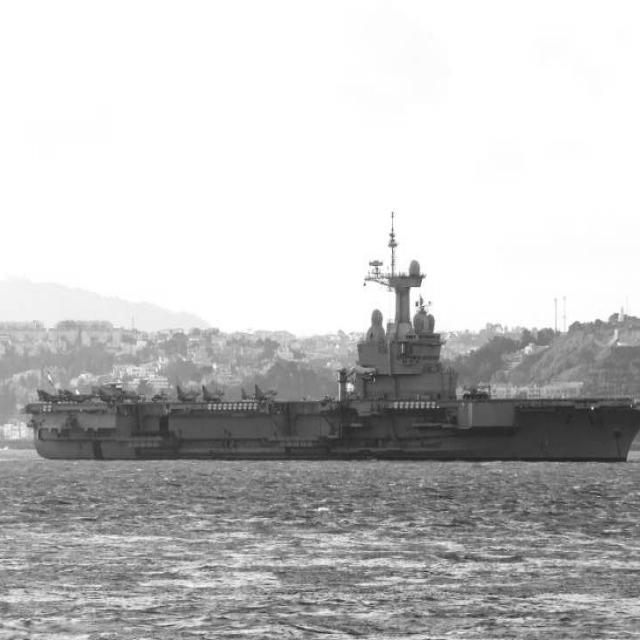Portanaves: (27, 206, 640, 465)
